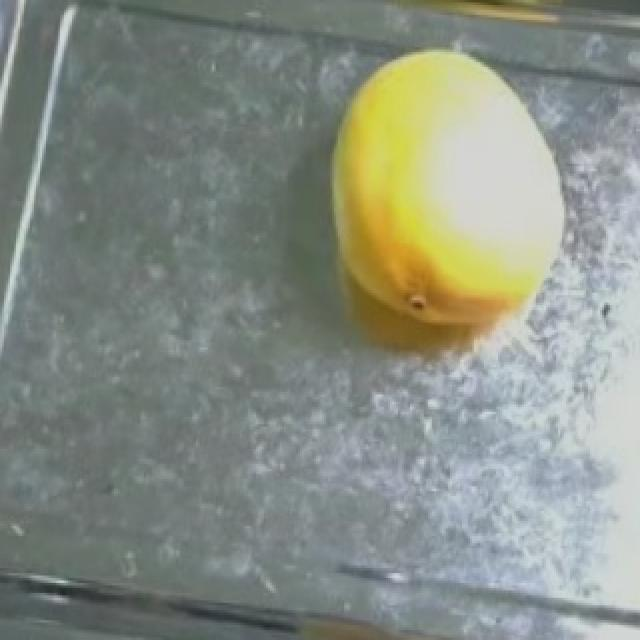fruit: (274, 15, 618, 374)
